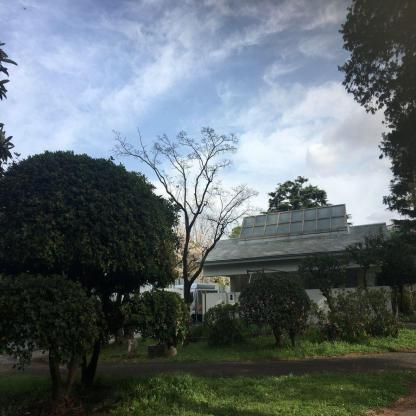Someiyoshino: (159, 219, 231, 286)
